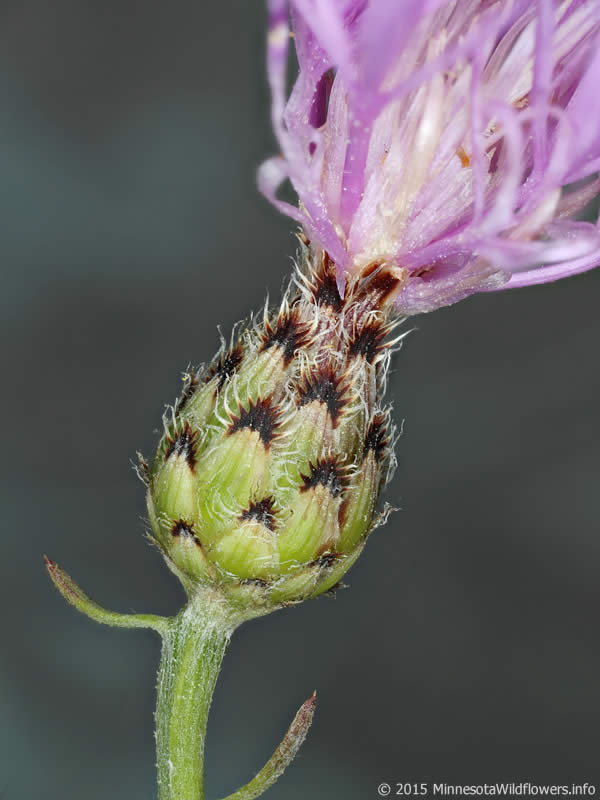thistle: (139, 4, 594, 633)
